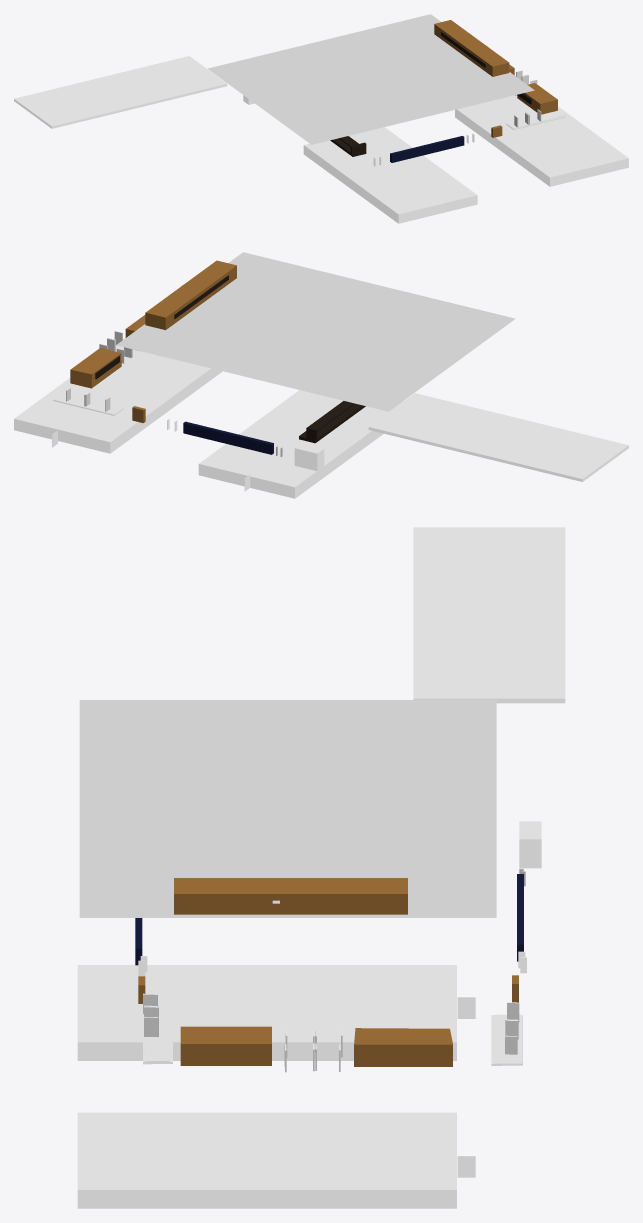
The model's file is bellevue.glb.
3 views of the same model, one above another, from view 1: azimuth 30°, elevation 25°; view 2: azimuth 150°, elevation 25°; view 3: azimuth 270°, elevation 25° (orthographic). The views are drawn at different scales.
Parts seen in each view (by area): view 1: cafeen, sydtoilet, nordtoilet, tagteresse, øvrebar, sydgarderobe, billetkontor, scenen, trappe; view 2: cafeen, tagteresse, nordtoilet, sydtoilet, øvrebar, foyerbar, nordgarderobe, scenen, handicaptoilet, trappe.002; view 3: cafeen, nordtoilet, sydtoilet, tagteresse, øvrebar, foyerbar, billetkontor, trappe.002, handicaptoilet, trappe.
Boxes of the visible parts, <box> form: cafeen: <box>208,14,534,144</box>; sydtoilet: <box>303,127,477,223</box>; nordtoilet: <box>455,95,628,186</box>; tagteresse: <box>14,56,227,128</box>; øvrebar: <box>434,20,509,76</box>; sydgarderobe: <box>390,136,464,162</box>; billetkontor: <box>517,83,557,114</box>; scenen: <box>330,136,366,156</box>; trappe: <box>508,110,566,128</box>; cafeen: <box>116,252,515,411</box>; tagteresse: <box>368,393,628,481</box>; nordtoilet: <box>14,337,222,453</box>; sydtoilet: <box>198,390,403,498</box>; øvrebar: <box>145,260,236,330</box>; foyerbar: <box>70,347,121,388</box>; nordgarderobe: <box>183,421,273,454</box>; scenen: <box>299,401,365,443</box>; handicaptoilet: <box>294,443,324,471</box>; trappe.002: <box>53,393,123,415</box>; cafeen: <box>79,700,496,917</box>; nordtoilet: <box>77,1112,456,1208</box>; sydtoilet: <box>77,965,456,1060</box>; tagteresse: <box>413,527,565,703</box>; øvrebar: <box>174,878,407,914</box>; foyerbar: <box>354,1028,452,1066</box>; billetkontor: <box>180,1026,271,1065</box>; trappe.002: <box>491,1014,522,1065</box>; handicaptoilet: <box>519,821,541,868</box>; trappe: <box>144,1010,169,1062</box>.
Size of the model in its own units: 302 by 66.05 by 129.
